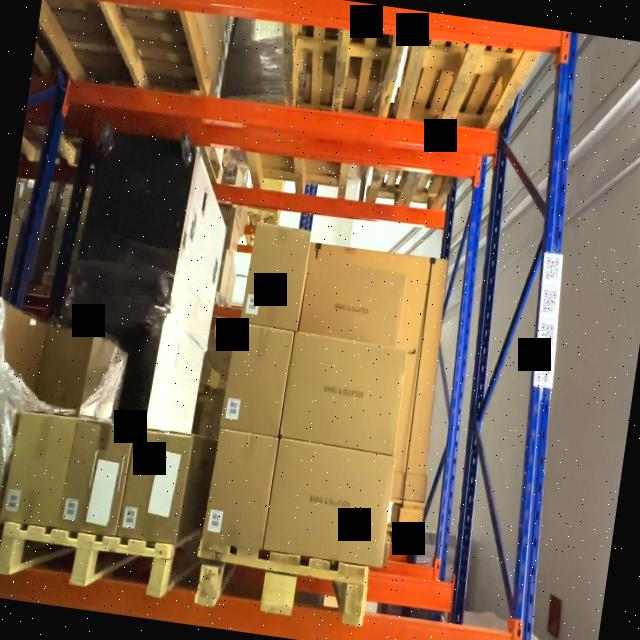box: (263, 436, 399, 570), (282, 334, 408, 452), (54, 417, 136, 536), (202, 427, 278, 547), (0, 411, 77, 527), (118, 429, 193, 545), (222, 324, 294, 438), (241, 225, 312, 326)
